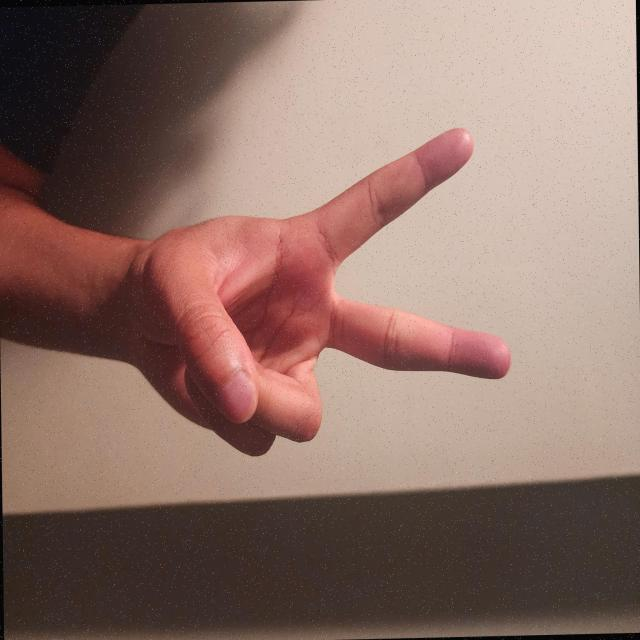V: (251, 162, 508, 640)
